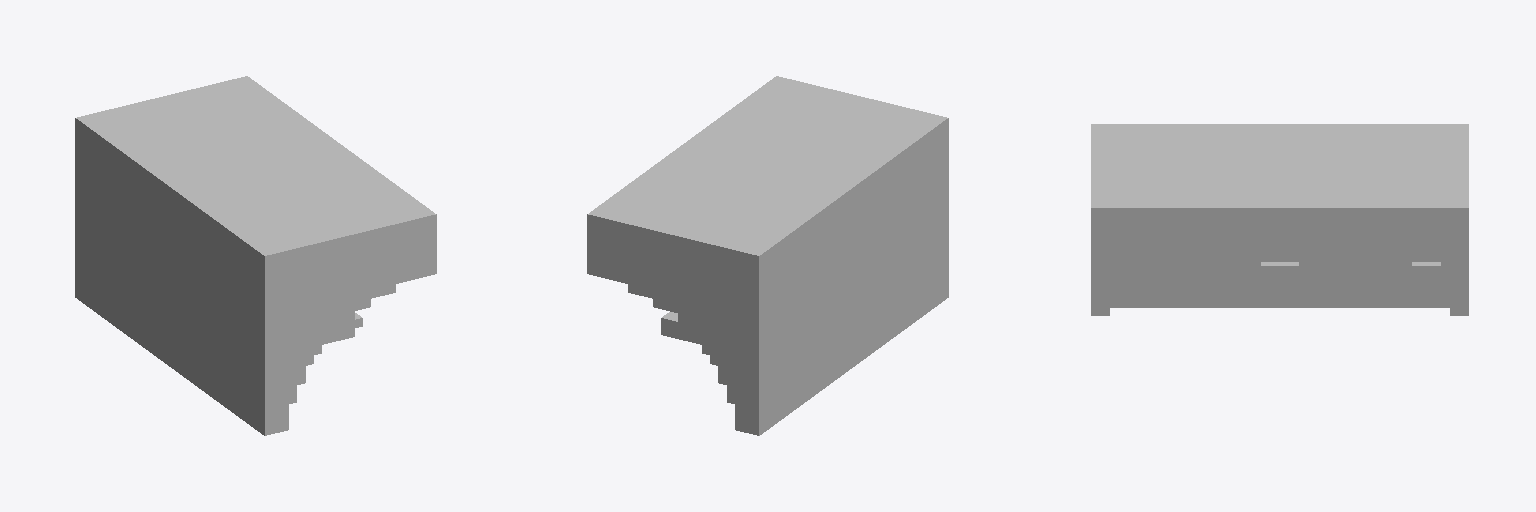
Rendered from Architeture1-12.obj.
3 views of the same model, side by side, from view 1: azimuth 30°, elevation 25°; view 2: azimuth 150°, elevation 25°; view 3: azimuth 270°, elevation 25° (orthographic).
Parts seen in each view (by area): view 1: object 1; view 2: object 1; view 3: object 1.
Boxes of the visible parts, x1=… form: object 1: x1=75, y1=76, x2=436, y2=435; object 1: x1=587, y1=76, x2=948, y2=435; object 1: x1=1091, y1=124, x2=1468, y2=315.
Bounding box in the file's own units: 2.1 × 2.1 × 4.